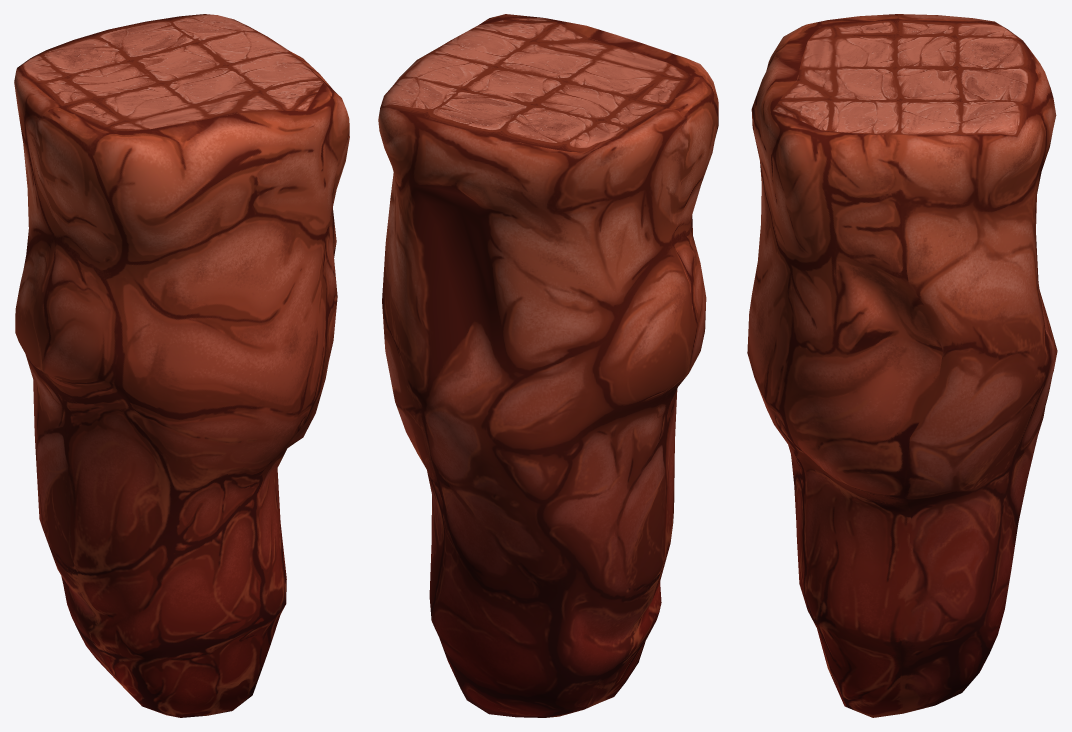
File: rockyPillarLong.fbx
3 views of the same model, side by side, from view 1: azimuth 30°, elevation 25°; view 2: azimuth 150°, elevation 25°; view 3: azimuth 270°, elevation 25° (orthographic). The views are drawn at different scales.
Parts seen in each view (by area): view 1: Cube; view 2: Cube; view 3: Cube.
Part boxes in pixels (left/top/right/bottom): Cube: left=14, top=14, right=349, bottom=717; Cube: left=378, top=14, right=718, bottom=717; Cube: left=747, top=14, right=1057, bottom=717.
Size of the model in its own units: 5.03 by 10.64 by 4.77.
